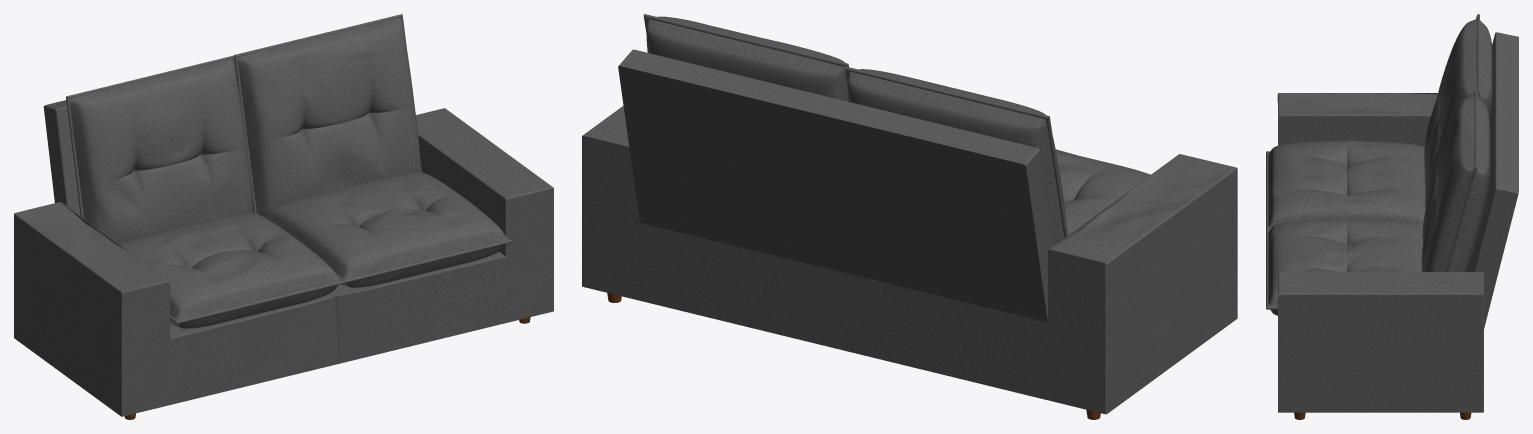
File: sofa.glb
3 renders of one model, left to right at view 1: azimuth 30°, elevation 25°; view 2: azimuth 150°, elevation 25°; view 3: azimuth 270°, elevation 25°, orthographic. The views are drawn at different scales.
Visible parts, largest first — view 1: Sofá\Sólido (4), Sofá\Sólido (4).001, Componente2\Sólido11, Componente1\Sólido, Sofá\Sólido (2), Sofá\Sólido, Componente2\Sólido11 (2), Sólido1\Sólido1; view 2: Sólido1\Sólido1, Componente2\Sólido11, Componente1\Sólido, Sofá\Sólido (4).001, Componente2\Sólido11 (2), Sofá\Sólido (4), Sofá\Sólido; view 3: Componente2\Sólido11 (2), Sofá\Sólido, Sofá\Sólido (4), Sofá\Sólido (2), Componente2\Sólido11, Sólido1\Sólido1, Sofá\Sólido (4).001.
Boxes of the visible parts, x1=… form: Sofá\Sólido (4): x1=234, y1=14, x2=421, y2=216; Sofá\Sólido (4).001: x1=66, y1=55, x2=253, y2=243; Componente2\Sólido11: x1=14, y1=202, x2=169, y2=416; Componente1\Sólido: x1=170, y1=252, x2=505, y2=404; Sofá\Sólido (2): x1=263, y1=172, x2=512, y2=287; Sofá\Sólido: x1=119, y1=213, x2=344, y2=328; Componente2\Sólido11 (2): x1=416, y1=108, x2=553, y2=322; Sólido1\Sólido1: x1=43, y1=100, x2=80, y2=215; Sólido1\Sólido1: x1=618, y1=49, x2=1053, y2=322; Componente2\Sólido11: x1=1048, y1=154, x2=1237, y2=414; Componente1\Sólido: x1=640, y1=223, x2=1047, y2=400; Sofá\Sólido (4).001: x1=844, y1=66, x2=1067, y2=245; Componente2\Sólido11 (2): x1=582, y1=106, x2=639, y2=300; Sofá\Sólido (4): x1=643, y1=14, x2=848, y2=101; Sofá\Sólido: x1=1055, y1=149, x2=1150, y2=235; Componente2\Sólido11 (2): x1=1278, y1=272, x2=1483, y2=412; Sofá\Sólido: x1=1266, y1=140, x2=1425, y2=229; Sofá\Sólido (4): x1=1421, y1=90, x2=1490, y2=271; Sofá\Sólido (2): x1=1266, y1=219, x2=1422, y2=315; Componente2\Sólido11: x1=1277, y1=93, x2=1437, y2=147; Sólido1\Sólido1: x1=1467, y1=32, x2=1518, y2=328; Sofá\Sólido (4).001: x1=1424, y1=14, x2=1492, y2=207.
Bounding box in the file's own units: 3.93 × 2.15 × 2.09.
2 materials, 2 textured.
